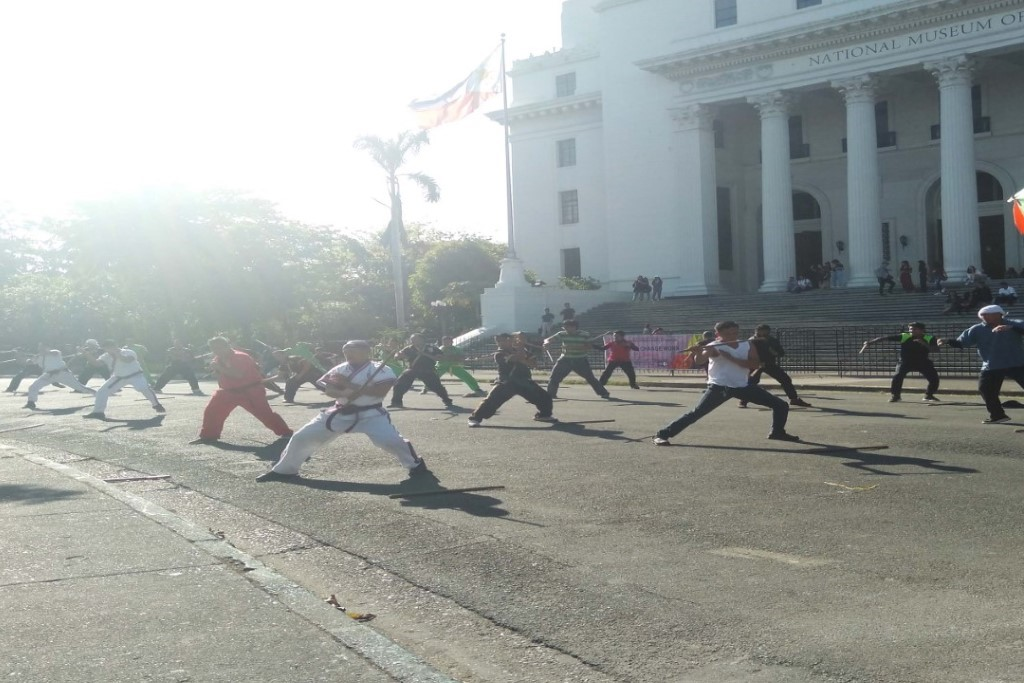baston_e: (347, 359, 385, 403), (680, 339, 738, 355), (193, 352, 211, 361), (544, 348, 554, 361), (859, 343, 867, 351)
baston_v: (383, 356, 391, 363), (737, 337, 745, 343), (674, 349, 683, 354), (858, 350, 862, 355)
